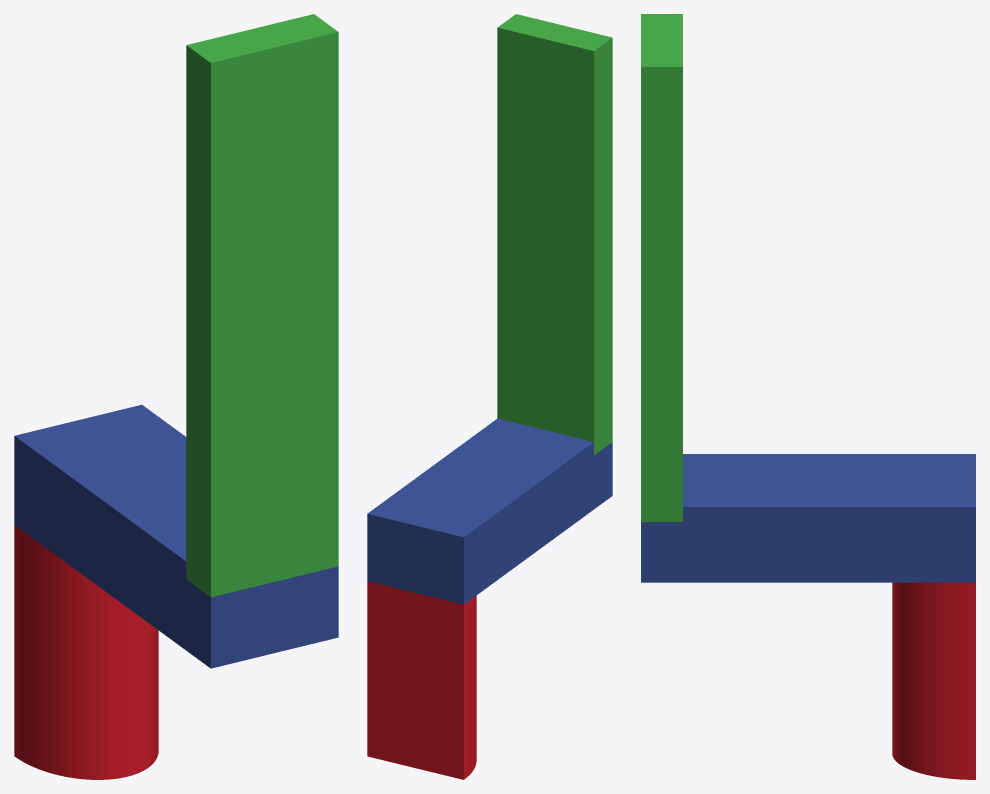
Rendered from tinker.obj.
The picture shows the model from 3 angles, left to right: view 1: azimuth 30°, elevation 25°; view 2: azimuth 150°, elevation 25°; view 3: azimuth 270°, elevation 25°; orthographic projection. The views are drawn at different scales.
Visible parts, largest first — view 1: group_0_4634441, group_0_3888547, group_0_15277357; view 2: group_0_4634441, group_0_3888547, group_0_15277357; view 3: group_0_3888547, group_0_4634441, group_0_15277357.
Part boxes in pixels (x1,y1,x2,y2): group_0_4634441: [186, 14, 338, 597]; group_0_3888547: [14, 404, 338, 668]; group_0_15277357: [14, 525, 158, 779]; group_0_4634441: [497, 14, 612, 455]; group_0_3888547: [367, 418, 612, 604]; group_0_15277357: [367, 581, 476, 779]; group_0_3888547: [641, 454, 975, 582]; group_0_4634441: [641, 14, 682, 521]; group_0_15277357: [892, 582, 975, 779].
Bounding box in the file's own units: 15 × 94 × 40.
